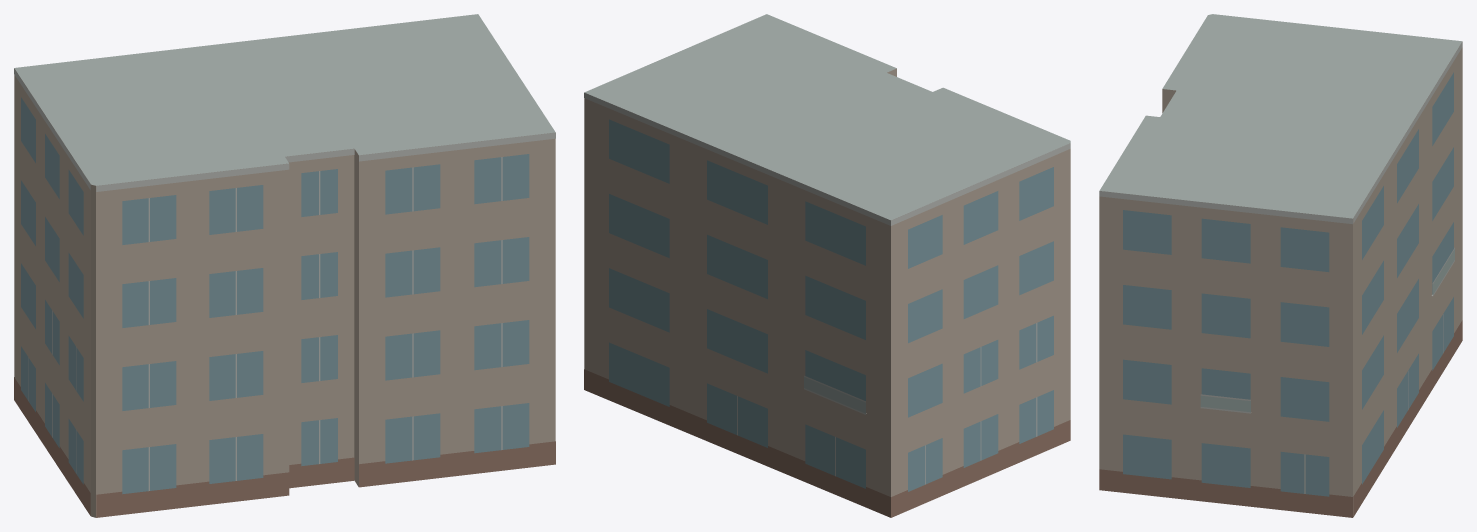
Rendered from survey-upis-32917873.glb.
The picture shows the model from 3 angles, left to right: view 1: azimuth 30°, elevation 25°; view 2: azimuth 150°, elevation 25°; view 3: azimuth 270°, elevation 25°; orthographic projection. The views are drawn at different scales.
Parts seen in each view (by area): view 1: survey-upis-32917873.tmp; view 2: survey-upis-32917873.tmp; view 3: survey-upis-32917873.tmp.
Boxes of the visible parts, box(x1,y1,x2,y2) form: survey-upis-32917873.tmp: box(14, 14, 555, 517); survey-upis-32917873.tmp: box(584, 14, 1070, 517); survey-upis-32917873.tmp: box(1099, 14, 1462, 517).
Size of the model in its own units: 19.07 by 13 by 14.31.
